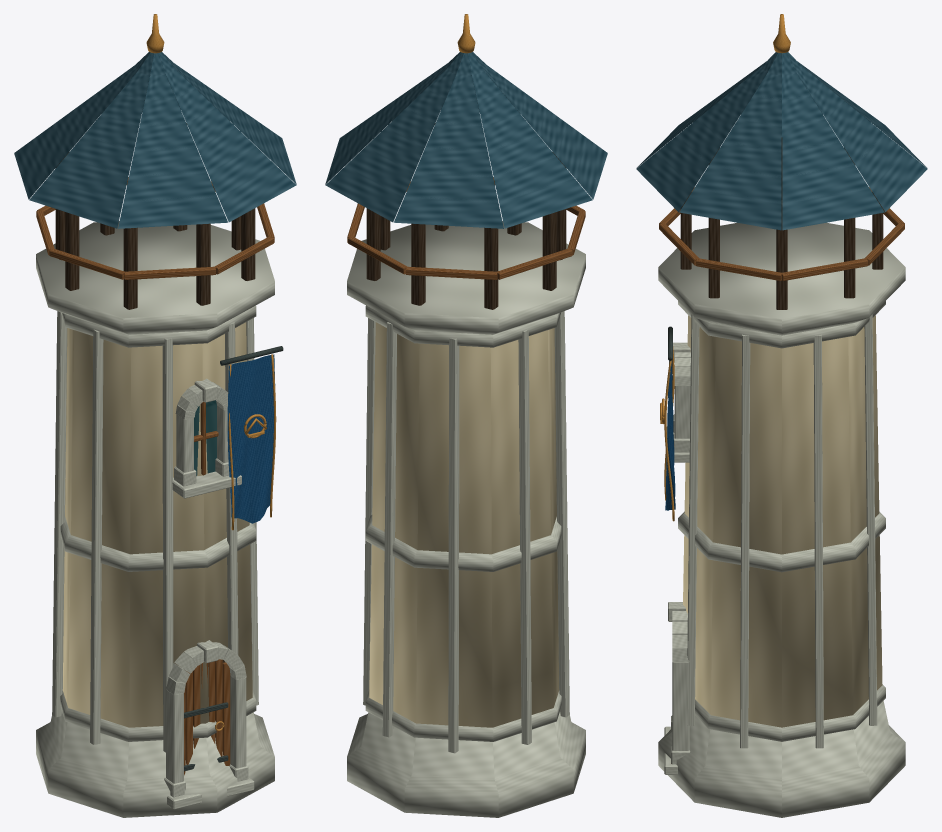
The model's file is harbor_watchtower.glb.
3 renders of one model, left to right at view 1: azimuth 30°, elevation 25°; view 2: azimuth 150°, elevation 25°; view 3: azimuth 270°, elevation 25°, orthographic.
Parts seen in each view (by area): view 1: harbor_watchtower_Structure, harbor_watchtower_Roof, harbor_watchtower_Joinery, harbor_watchtower_Detail, harbor_watchtower_Cloth, harbor_watchtower_Metalwork, harbor_watchtower_Glazing; view 2: harbor_watchtower_Structure, harbor_watchtower_Roof, harbor_watchtower_Joinery; view 3: harbor_watchtower_Structure, harbor_watchtower_Roof, harbor_watchtower_Joinery, harbor_watchtower_Detail, harbor_watchtower_Metalwork, harbor_watchtower_Cloth.
Part boxes in pixels (x1,y1,x2,y2): harbor_watchtower_Structure: (36, 221, 274, 817); harbor_watchtower_Roof: (14, 52, 296, 228); harbor_watchtower_Joinery: (36, 123, 274, 775); harbor_watchtower_Detail: (164, 378, 254, 809); harbor_watchtower_Cloth: (227, 354, 275, 523); harbor_watchtower_Metalwork: (146, 14, 283, 771); harbor_watchtower_Glazing: (194, 400, 216, 475); harbor_watchtower_Structure: (347, 221, 585, 817); harbor_watchtower_Roof: (325, 52, 607, 228); harbor_watchtower_Joinery: (347, 123, 585, 753); harbor_watchtower_Structure: (658, 222, 905, 817); harbor_watchtower_Roof: (636, 52, 927, 230); harbor_watchtower_Joinery: (659, 137, 904, 748); harbor_watchtower_Detail: (664, 342, 690, 774); harbor_watchtower_Metalwork: (660, 14, 790, 521); harbor_watchtower_Cloth: (665, 360, 675, 510).
Size of the model in its own units: 3.9 by 11.07 by 3.9.
3 materials, 3 textured.
